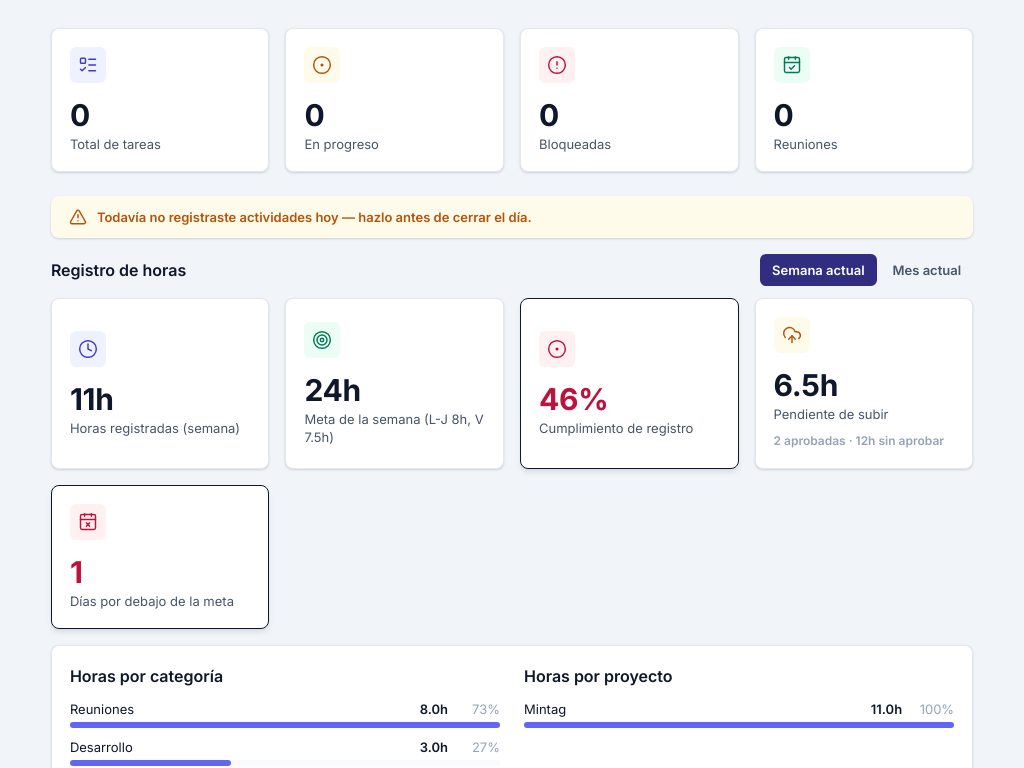
it: Dashboard time-log period › defaults to the current week and switches to the month
Expected: the text "11h" is shown, x1=70 y1=380 x2=114 y2=416
Expected: the button "11h Horas registradas (semana)" is shown, x1=51 y1=298 x2=269 y2=469
Click the button "Mes actual" at (927, 270), box x1=880 y1=254 x2=973 y2=286
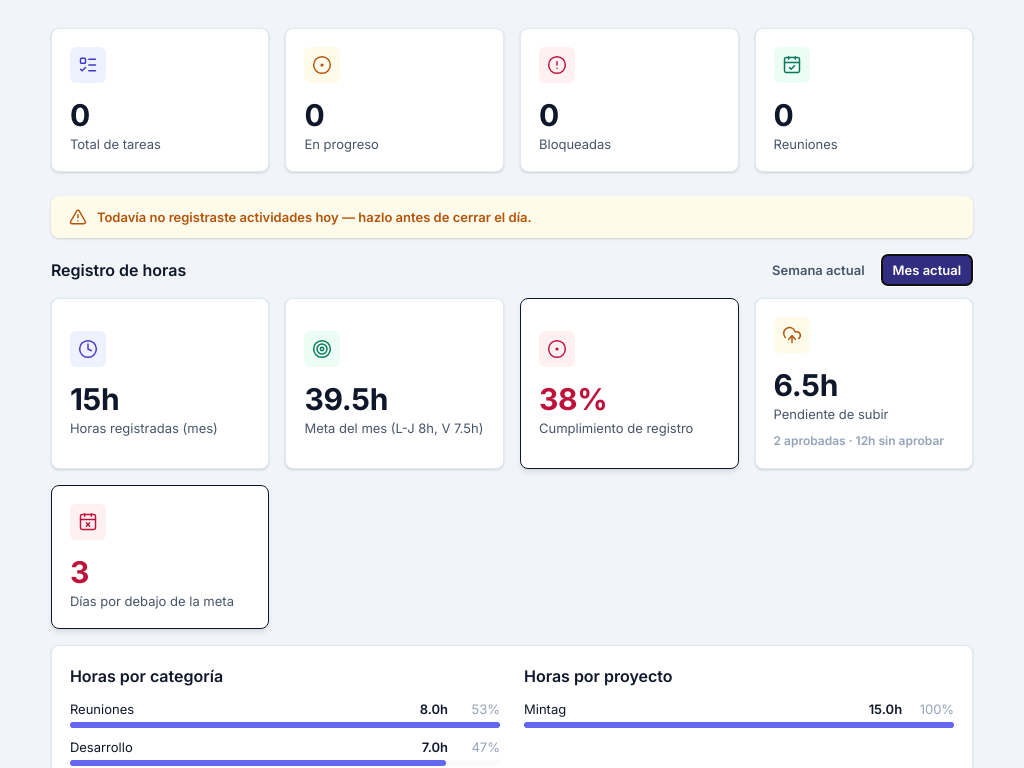
Expected: the button "Horas registradas (semana)" shows "15h", x1=51 y1=298 x2=269 y2=469
Expected: the button "Meta de la semana" shows "39.5h", x1=285 y1=298 x2=504 y2=469
Expected: the list item "Mintag 15.0h 100%" is shown, x1=524 y1=700 x2=954 y2=728
